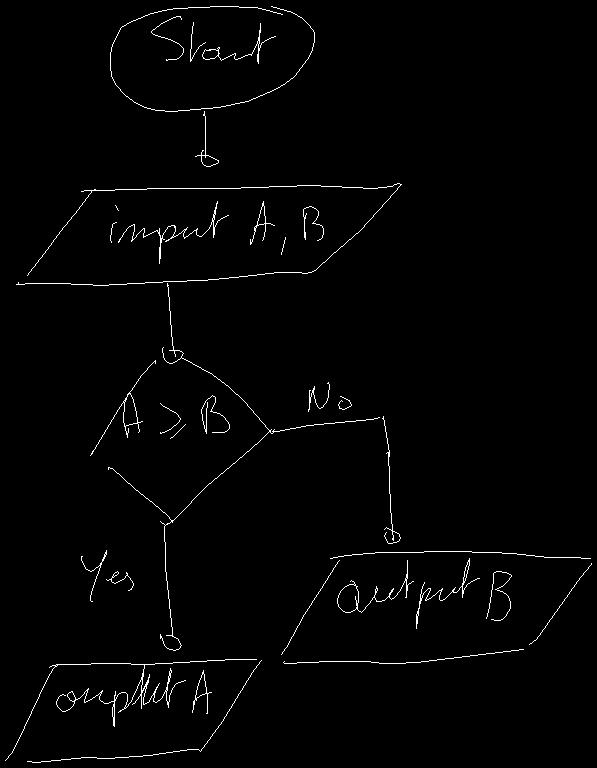arrow: (272, 416, 400, 543), (160, 523, 181, 650), (162, 283, 183, 363), (195, 111, 218, 166)
data: (16, 183, 401, 285), (281, 551, 591, 663), (5, 659, 261, 762)
decision: (90, 357, 273, 525)
terminator: (110, 6, 314, 111)
text: (110, 201, 323, 263), (337, 558, 511, 628), (56, 664, 211, 726), (151, 16, 275, 63), (123, 392, 229, 438), (81, 550, 133, 601), (308, 382, 351, 411)
